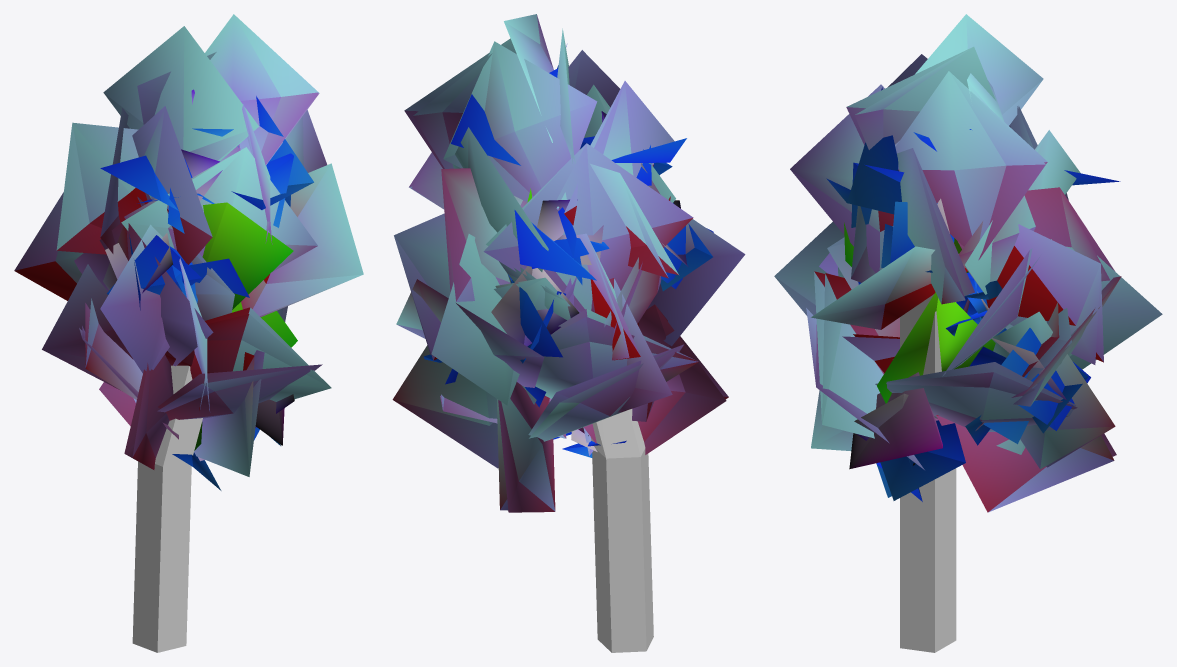
Rendered from oak_d.dae.
3 views of the same model, side by side, from view 1: azimuth 30°, elevation 25°; view 2: azimuth 150°, elevation 25°; view 3: azimuth 270°, elevation 25° (orthographic). The views are drawn at different scales.
Parts seen in each view (by area): view 1: oak_d_a590, oak_d_a250, Colmesh-1; view 2: oak_d_a590, oak_d_a250, Colmesh-1; view 3: oak_d_a590, oak_d_a250, Colmesh-1.
Part boxes in pixels (x1,y1,x2,y2): oak_d_a590: [42, 14, 363, 490]; oak_d_a250: [14, 14, 362, 476]; Colmesh-1: [132, 365, 202, 652]; oak_d_a590: [392, 21, 726, 511]; oak_d_a250: [393, 14, 745, 512]; Colmesh-1: [590, 409, 653, 652]; oak_d_a590: [774, 14, 1120, 512]; oak_d_a250: [774, 47, 1162, 512]; Colmesh-1: [900, 294, 956, 652].
Size of the model in its own units: 3.49 by 3.86 by 7.11.
